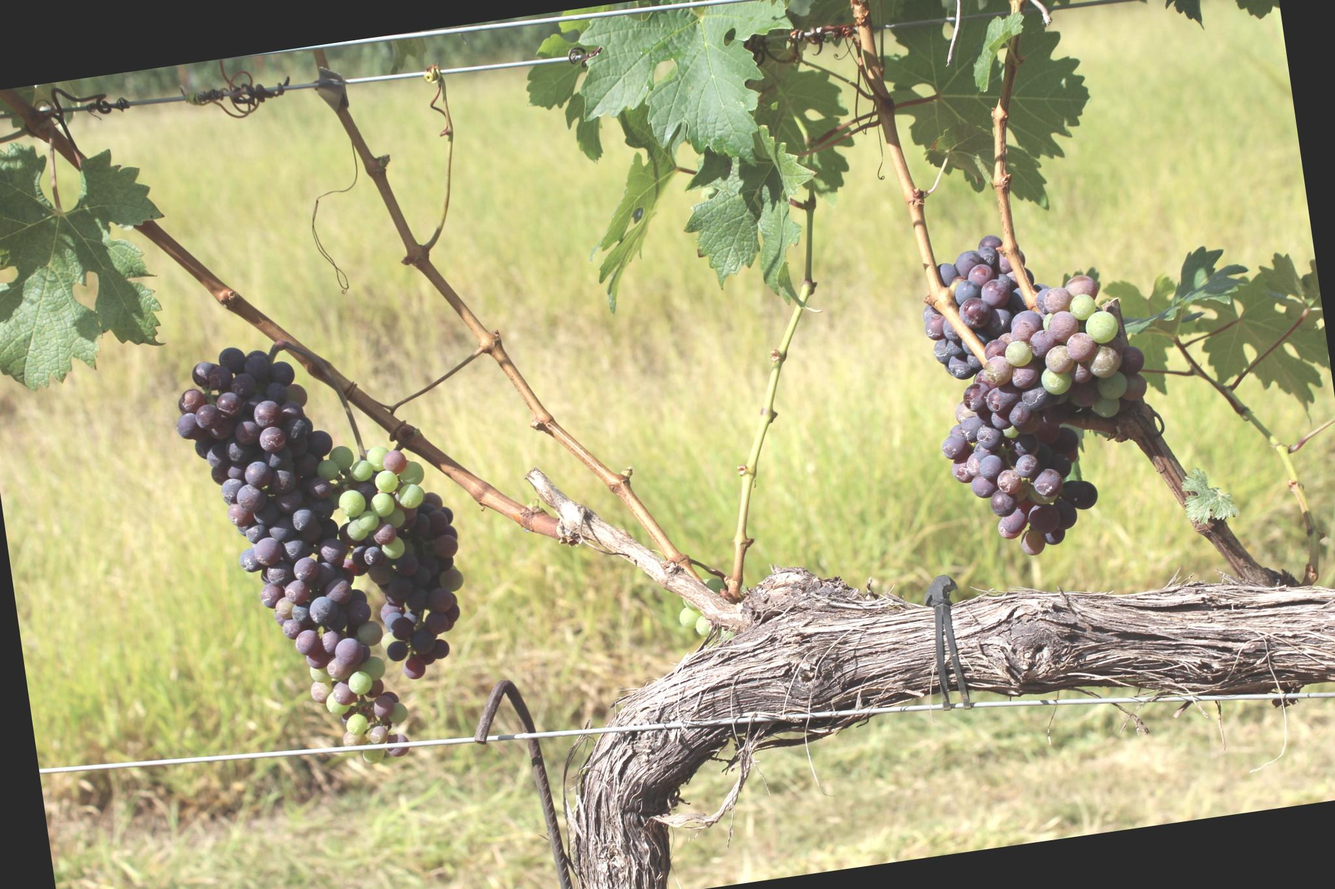Grape Ripe: (168, 332, 409, 766), (913, 230, 1052, 383)
